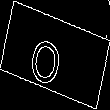O_N: (36, 25, 74, 85)
